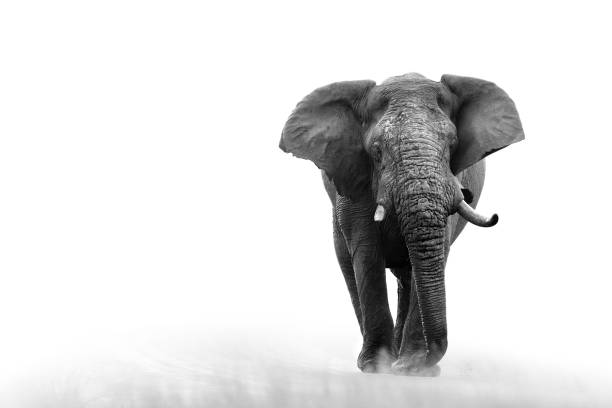africanelephant: (343, 89, 500, 245)
